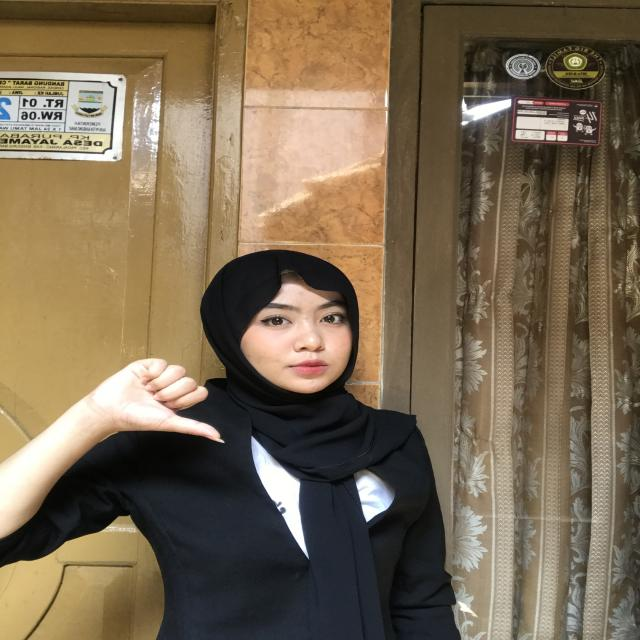sedih: (63, 348, 243, 468)
